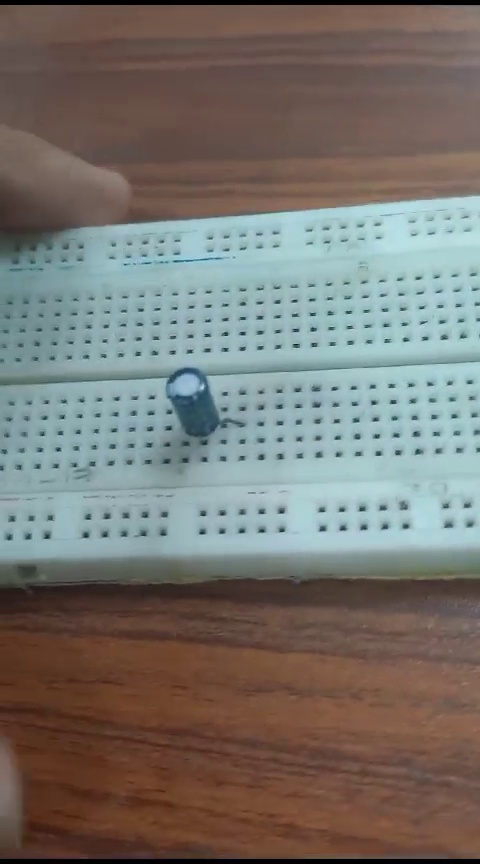capacitor: (158, 361, 224, 444)
